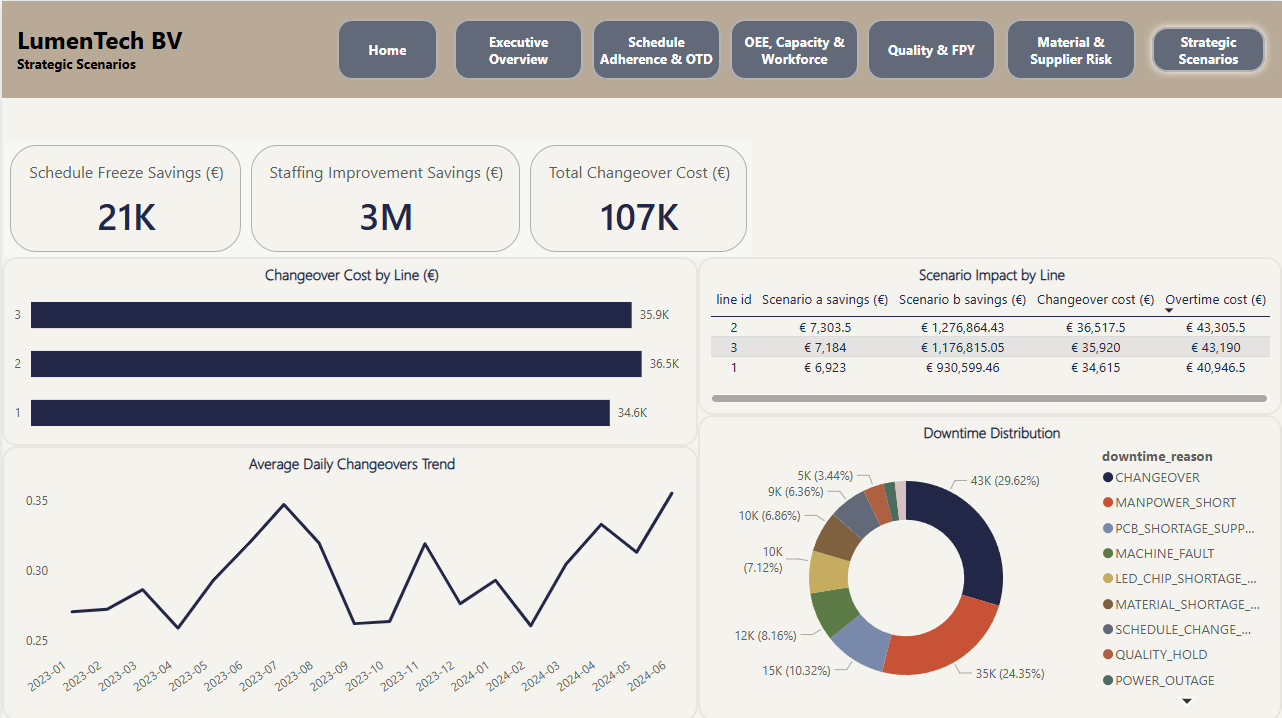

This screenshot's page, from the dashboard's own definition file:
{"tool":"powerbi","page":{"name":"Strategic Scenarios","canvas":[1280,720],"ordinal":6},"visuals":[{"type":"shape","box":[0,0,1280,97],"z":0},{"type":"cardVisual","fields":{"Data":["Sum(mart_strategic_scenarios.scenario_a_savings_eur)"]},"box":[2.5,138.8,241.2,117.5],"z":1000},{"type":"cardVisual","fields":{"Data":["Sum(mart_strategic_scenarios.changeover_cost_eur)"]},"box":[522.5,138.8,227.5,117.5],"z":2000},{"type":"cardVisual","fields":{"Data":["Sum(mart_strategic_scenarios.scenario_b_savings_eur)"]},"box":[243.8,138.8,278.8,117.5],"z":3000},{"type":"clusteredBarChart","title":"Changeover Cost by Line (€)","fields":{"Category":["mart_strategic_scenarios.line_id"],"Y":["Sum(mart_strategic_scenarios.changeover_cost_eur)"]},"box":[0,256.2,696.2,188.8],"z":4000},{"type":"tableEx","title":"Scenario Impact by Line","fields":{"Values":["mart_strategic_scenarios.line_id","Sum(mart_strategic_scenarios.scenario_a_savings_eur)","Sum(mart_strategic_scenarios.scenario_b_savings_eur)","Sum(mart_strategic_scenarios.changeover_cost_eur)","Sum(mart_strategic_scenarios.overtime_cost_eur)"]},"box":[696.3,256.4,583.9,158],"z":5000},{"type":"lineChart","title":"Average Daily Changeovers Trend","fields":{"Category":["mart_strategic_scenarios.year_month"],"Y":["Avg(mart_strategic_scenarios.daily_changeovers_on_line)"]},"box":[0,445,696.2,275],"z":6000},{"type":"donutChart","title":"Downtime Distribution","fields":{"Category":["mart_strategic_scenarios.downtime_reason"],"Y":["Sum(mart_strategic_scenarios.downtime_mins)"]},"box":[696.3,414.4,583.9,305.6],"z":7000},{"type":"actionButton","title":"Home","box":[335.4,18.4,100.1,60.6],"z":8000},{"type":"actionButton","title":"Home","box":[452.2,18.4,129.1,60.6],"z":9000},{"type":"actionButton","title":"Home","box":[590,18.4,129.1,60.6],"z":10000},{"type":"actionButton","title":"Home","box":[727.9,18.4,129.1,60.6],"z":11000},{"type":"actionButton","title":"Home","box":[864.9,18.4,129.1,60.6],"z":12000},{"type":"actionButton","title":"Home","box":[1004.5,18.4,129.1,60.6],"z":13000},{"type":"actionButton","title":"Home","box":[1142.3,18.4,129.1,60.6],"z":14000},{"type":"textbox","box":[71,17,218,63],"z":15000},{"type":"image","box":[0,9,71,79],"z":15001}]}

Visuals, with their boxes in screenshot pixels (x1, y1, x2, y2), scaled from the page's 1280x720 canvas onto the 1282x718 screenshot:
shape: pyautogui.locateOnScreen(0, 0, 1281, 97)
cardVisual - Sum(mart_strategic_scenarios.scenario_a_savings_eur): pyautogui.locateOnScreen(3, 138, 244, 256)
cardVisual - Sum(mart_strategic_scenarios.changeover_cost_eur): pyautogui.locateOnScreen(523, 138, 751, 256)
cardVisual - Sum(mart_strategic_scenarios.scenario_b_savings_eur): pyautogui.locateOnScreen(244, 138, 523, 256)
"Changeover Cost by Line (€)" clusteredBarChart: pyautogui.locateOnScreen(0, 255, 697, 444)
"Scenario Impact by Line" tableEx: pyautogui.locateOnScreen(697, 256, 1281, 413)
"Average Daily Changeovers Trend" lineChart: pyautogui.locateOnScreen(0, 444, 697, 717)
"Downtime Distribution" donutChart: pyautogui.locateOnScreen(697, 413, 1281, 717)
"Home" actionButton: pyautogui.locateOnScreen(336, 18, 436, 79)
"Home" actionButton: pyautogui.locateOnScreen(453, 18, 582, 79)
"Home" actionButton: pyautogui.locateOnScreen(591, 18, 720, 79)
"Home" actionButton: pyautogui.locateOnScreen(729, 18, 858, 79)
"Home" actionButton: pyautogui.locateOnScreen(866, 18, 996, 79)
"Home" actionButton: pyautogui.locateOnScreen(1006, 18, 1135, 79)
"Home" actionButton: pyautogui.locateOnScreen(1144, 18, 1273, 79)
textbox: pyautogui.locateOnScreen(71, 17, 289, 80)
image: pyautogui.locateOnScreen(0, 9, 71, 88)
